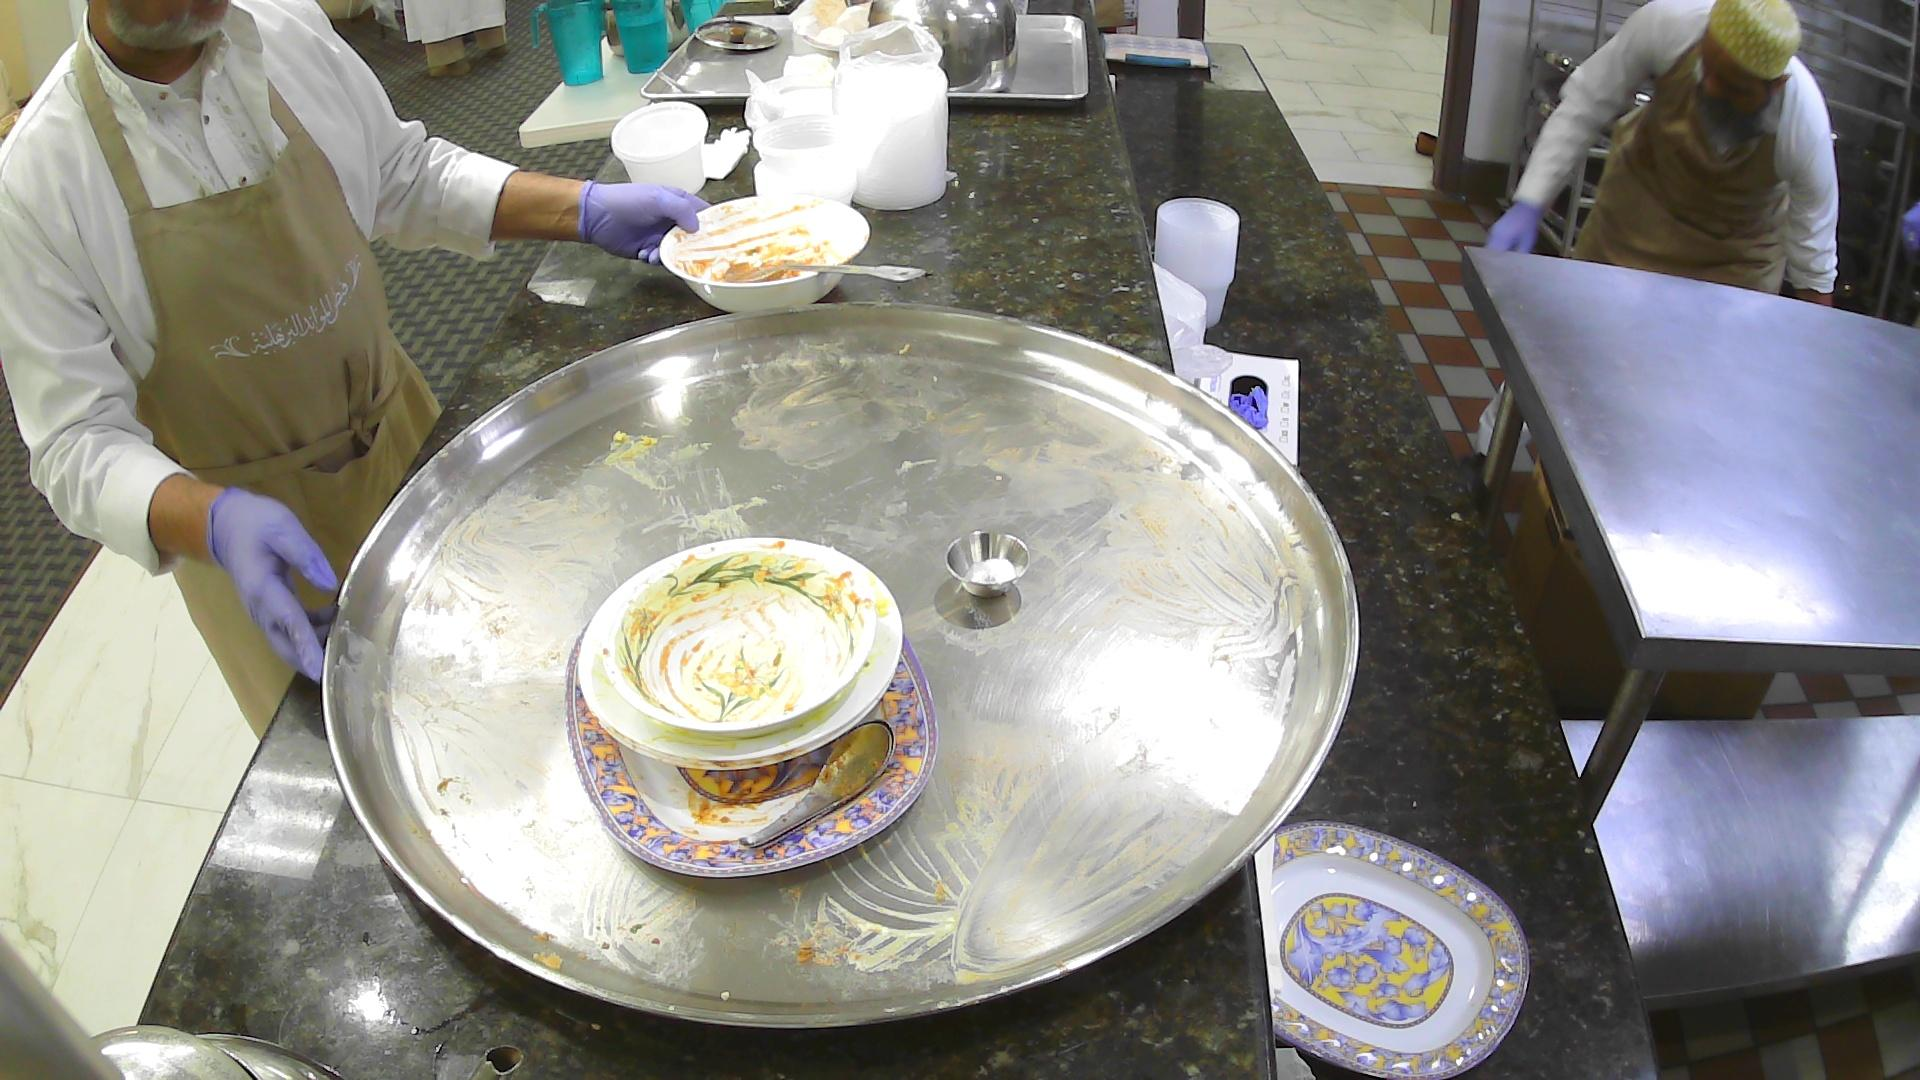thaal: (320, 301, 1366, 1039)
